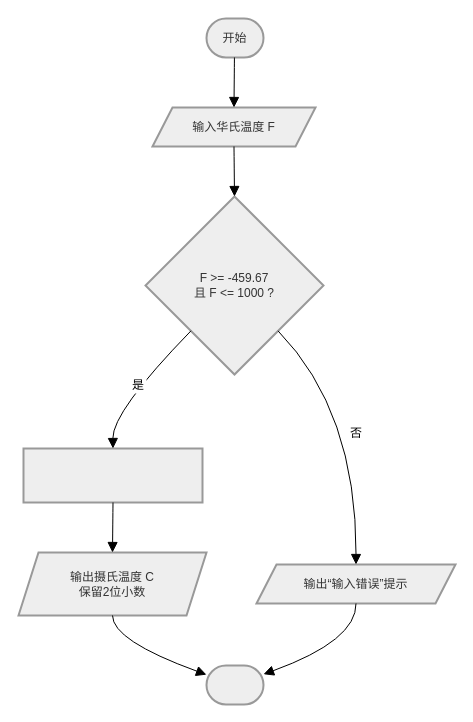
Image size: 473x722. Some labels were removed from this diagram. Here are the shapes that lost their labels. From the top down, the centre of each, then its label:
[112,475]: C = F - 32 * 5 / 9
[234,684]: 结束
